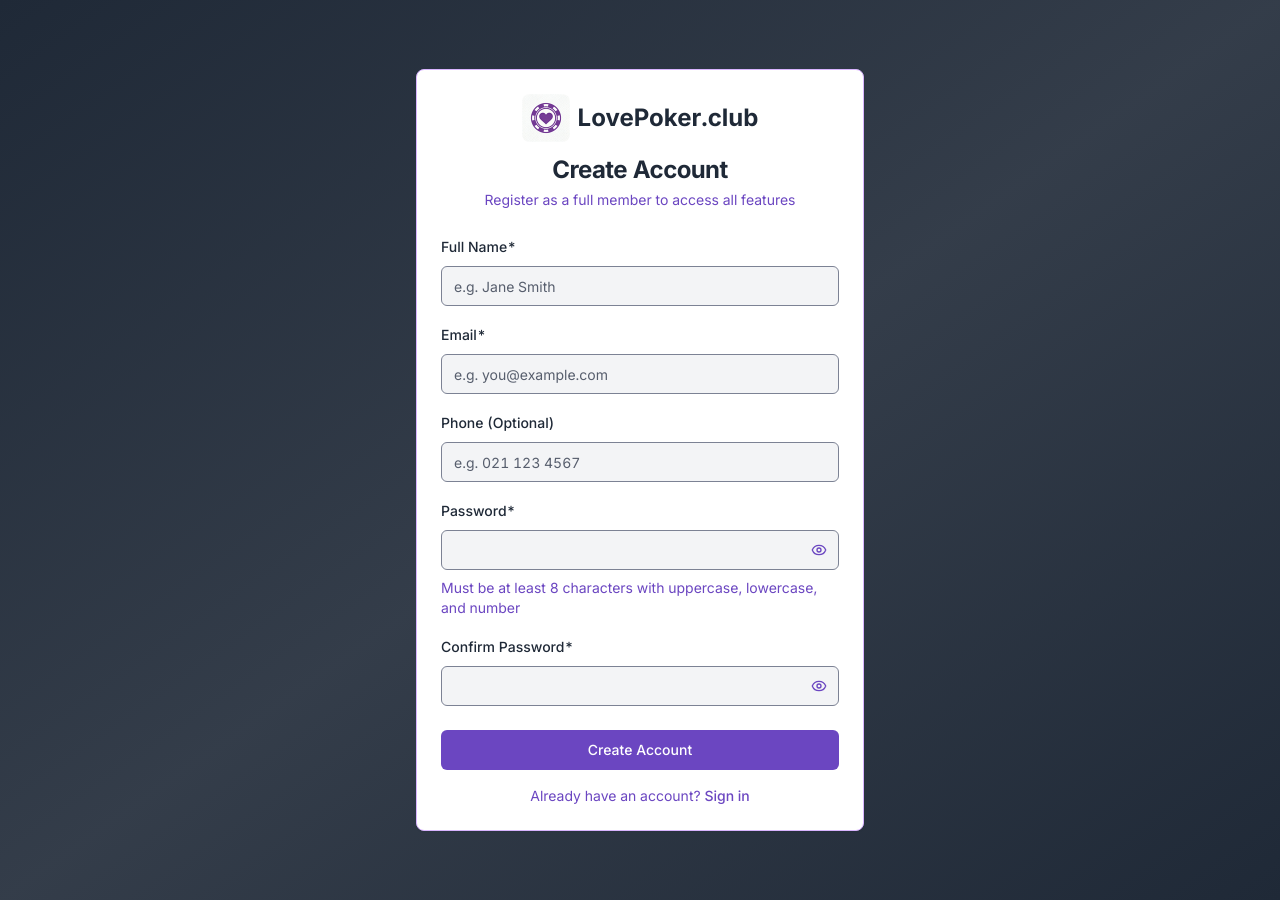
it: Register page › creates the account without a phone when none is given, signs in and lands on the staff home (the dashboard)
Expected: the heading "Create Account" is shown, [552, 155, 728, 184]
Type "Ada Admin" into the field labelled "Full Name*".
click(640, 286); type("Ada Admin")  # box [441, 266, 839, 306]
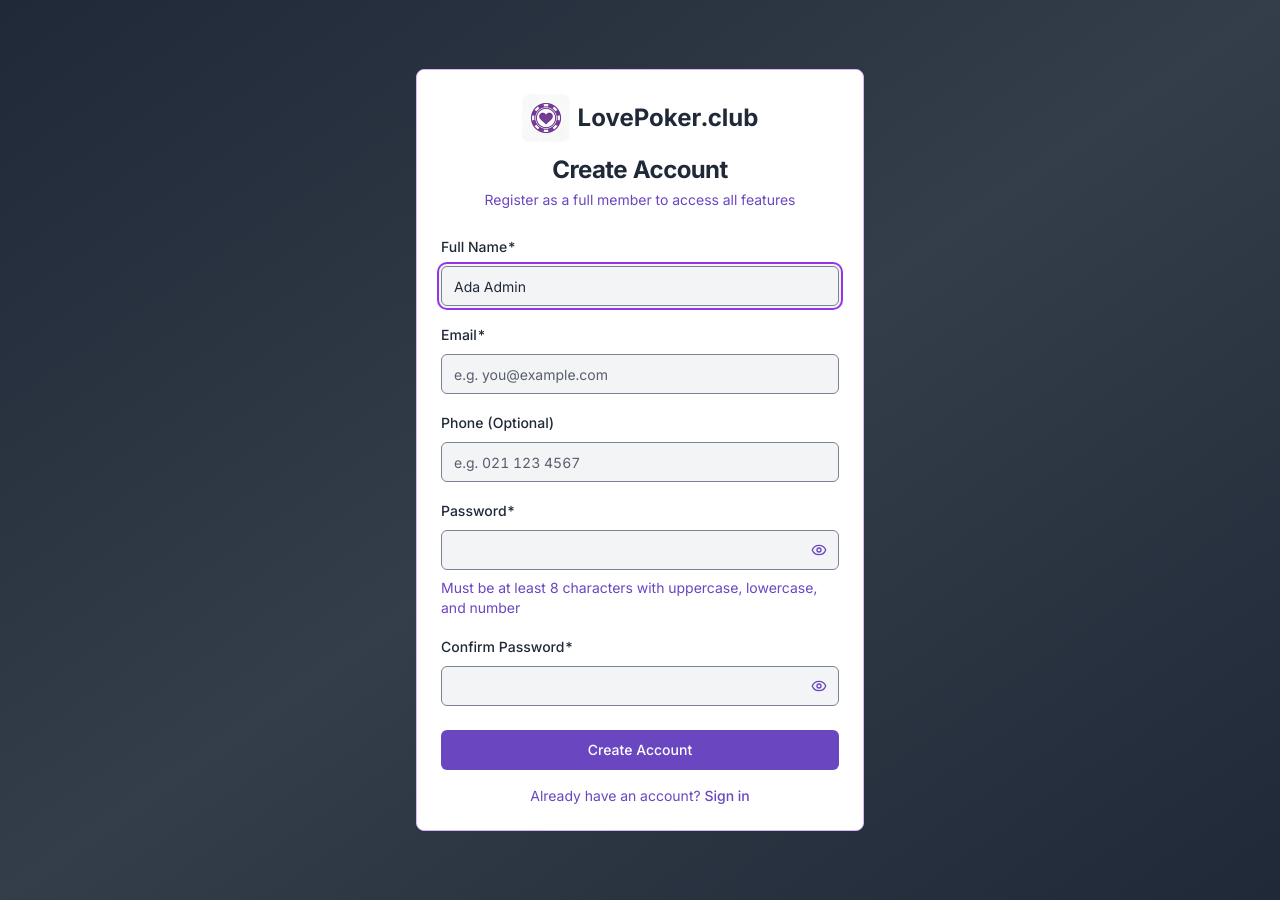
Type "ada@example.test" into the field labelled "Email*".
click(640, 374); type("ada@example.test")  # box [441, 354, 839, 394]
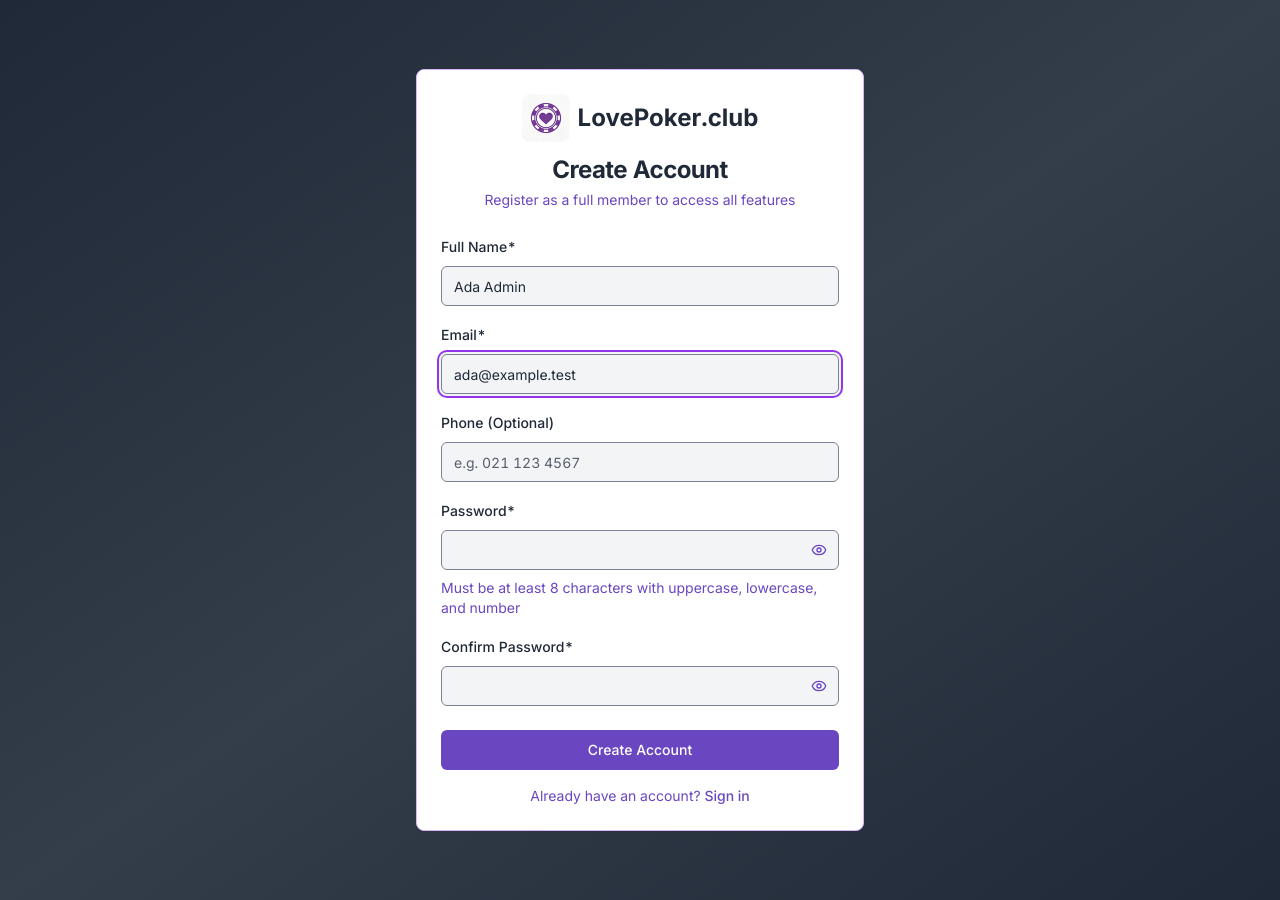
Type "Sturdy-Pass2" into the password field labelled "Password*".
click(640, 550); type("Sturdy-Pass2")  # box [441, 530, 839, 570]
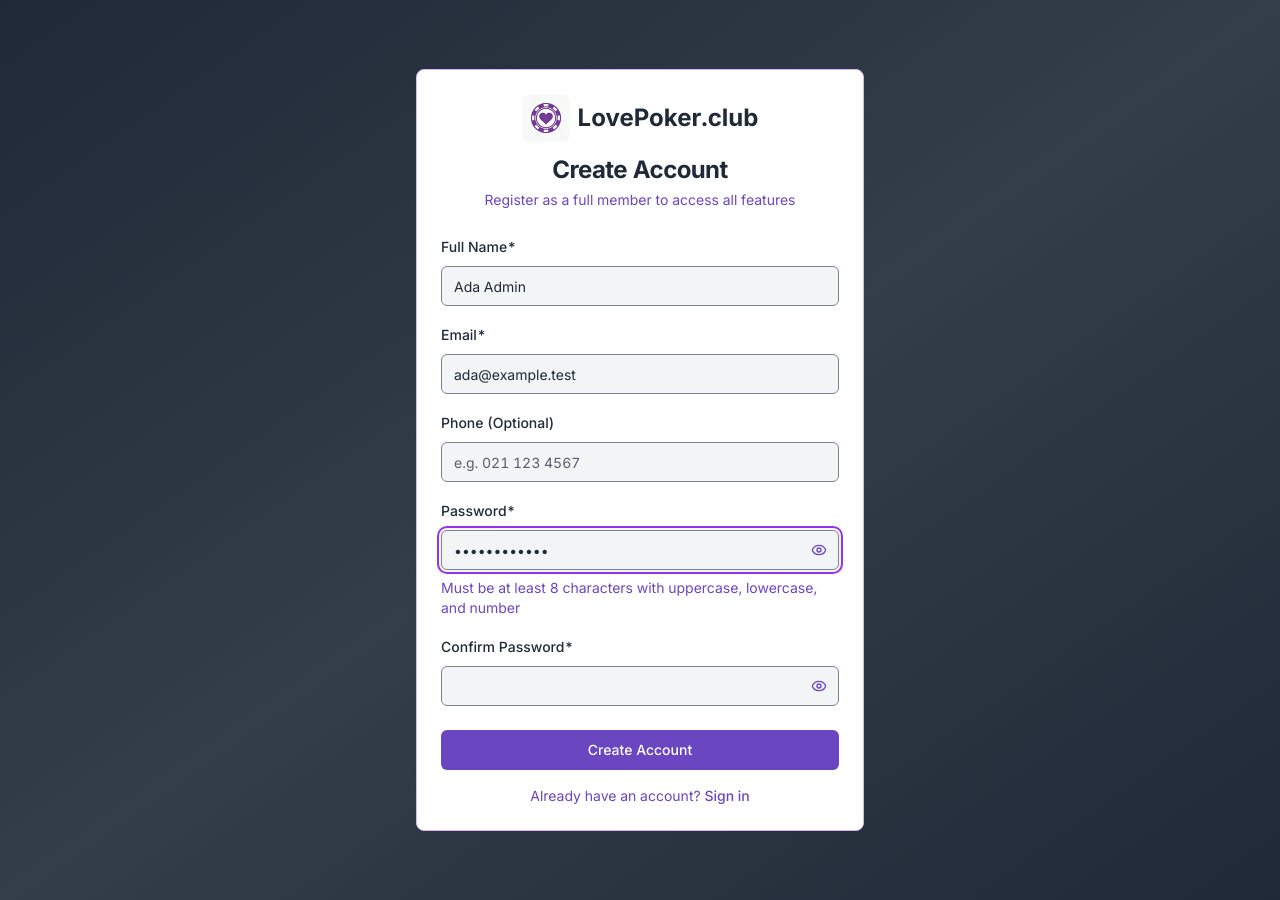
Type "Sturdy-Pass2" into the password field labelled "Confirm Password*".
click(640, 686); type("Sturdy-Pass2")  # box [441, 666, 839, 706]
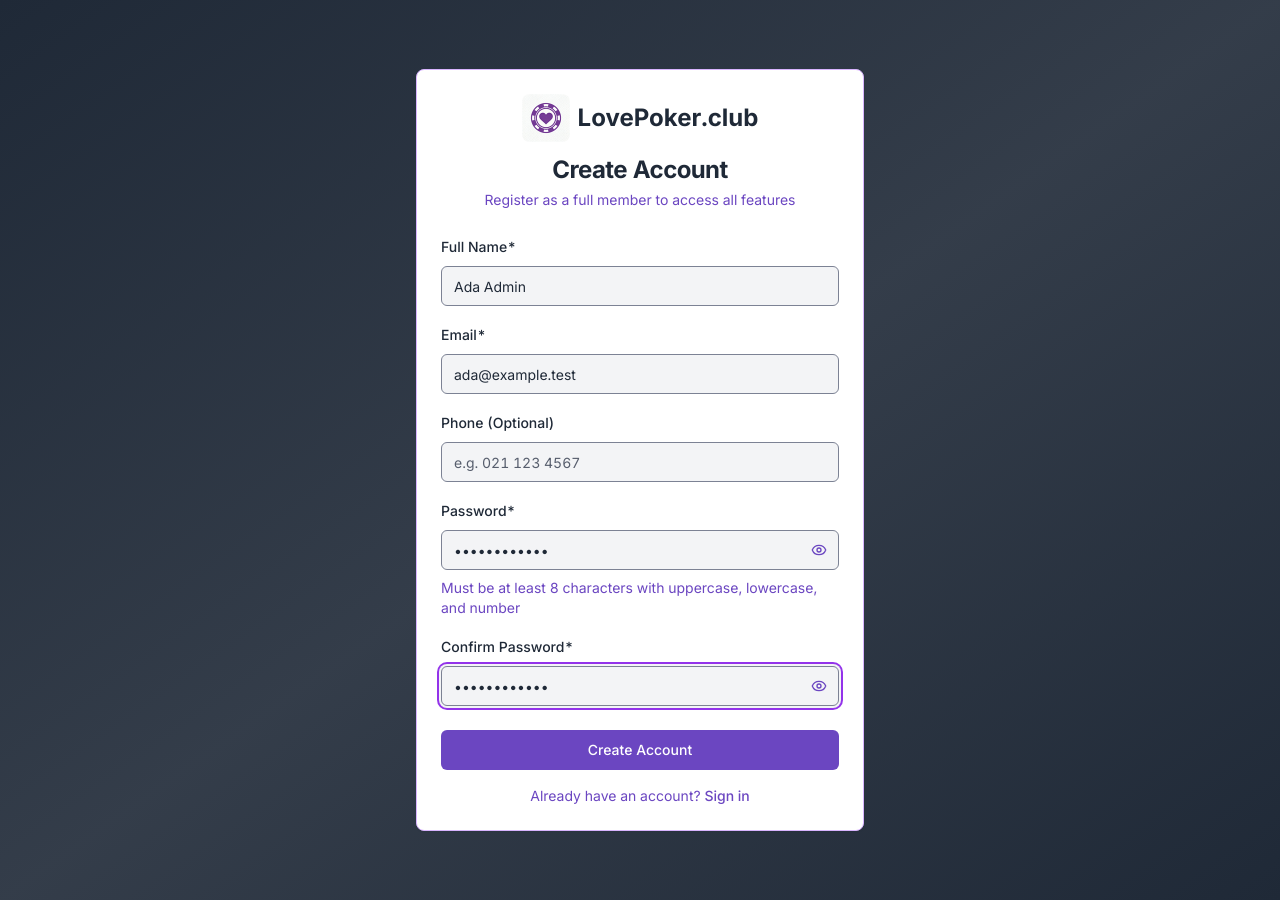
Click the button "Create Account".
click(640, 750)  # box [441, 730, 839, 770]
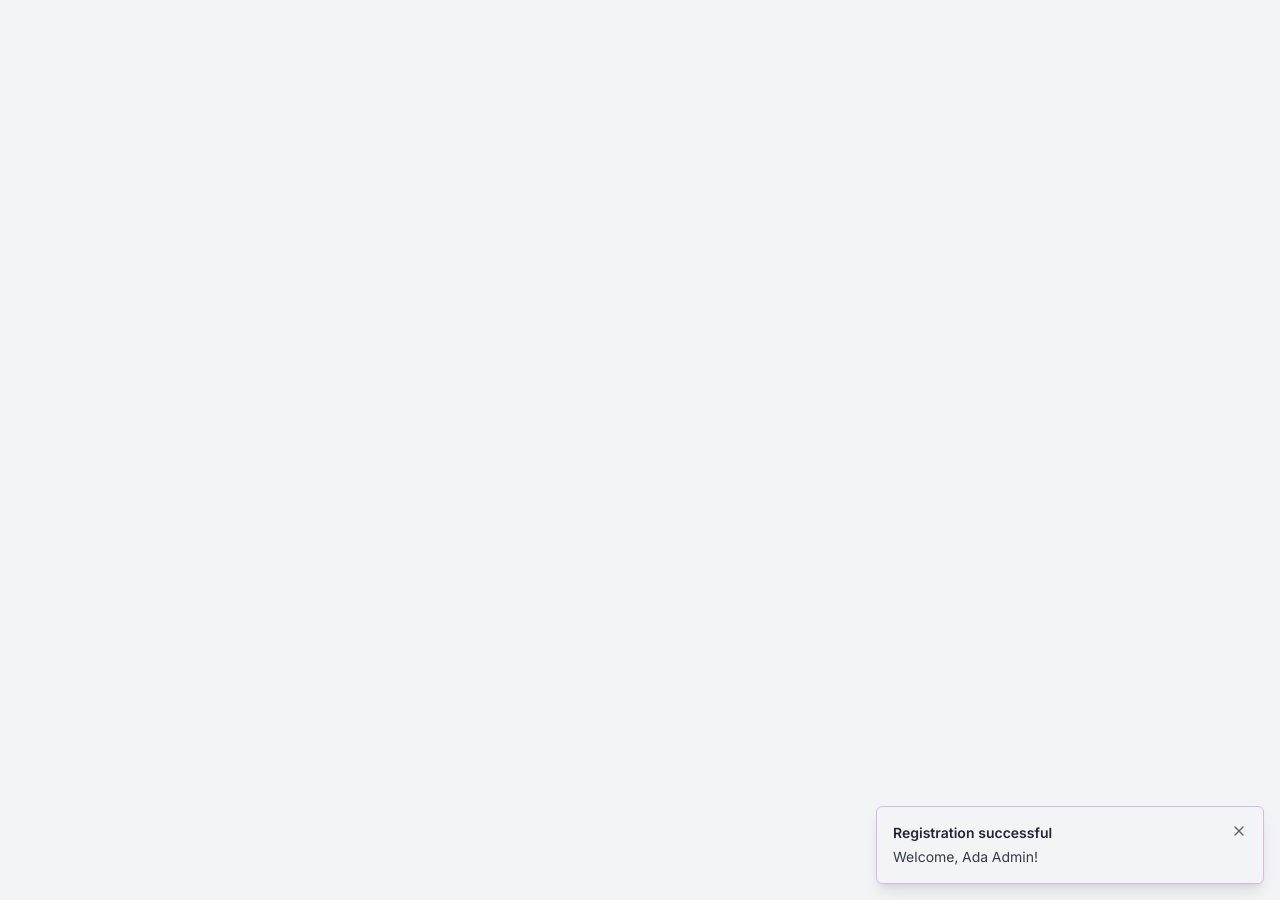
Result: the text "Welcome, Ada Admin!" is shown at [893, 848, 1038, 865]
